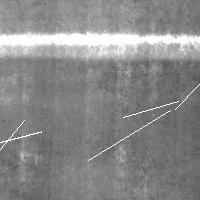scratches: (83, 105, 175, 165), (1, 32, 199, 58), (0, 115, 29, 190), (170, 55, 200, 114), (118, 96, 183, 122), (0, 127, 46, 159)
